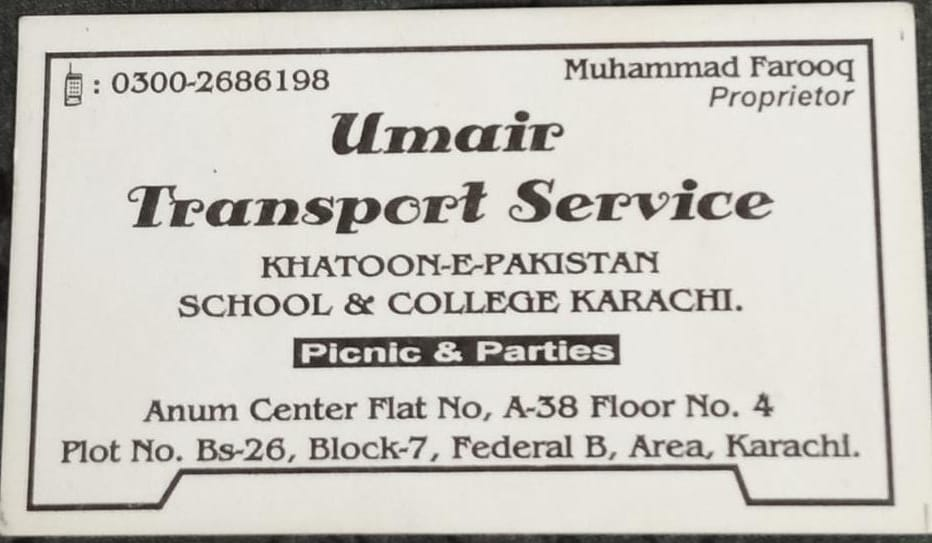alphabetical: (112, 165, 779, 241), (244, 248, 666, 285), (322, 105, 569, 168)
numerical: (102, 61, 337, 98)
